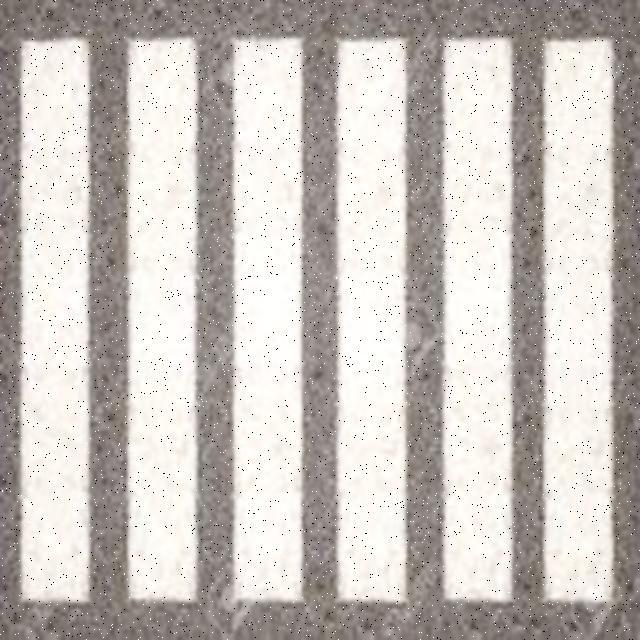crosswalk: (0, 34, 638, 634)
